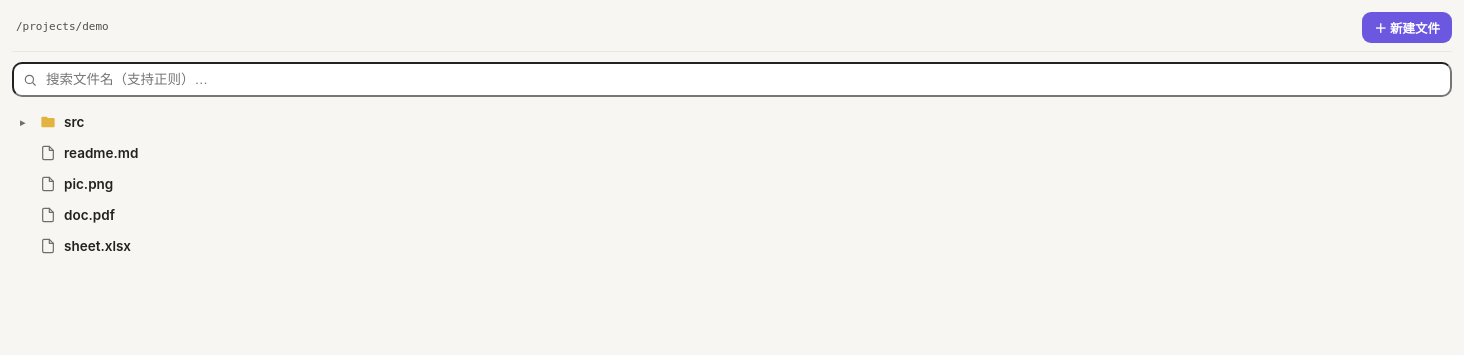
Test: FilesPanel › shows a binary-file notice instead of content
What coordinates should you click on to do the following:
click the button "readme.md"
I would click on:
 (101, 153)
Its box is [12, 138, 1452, 169].
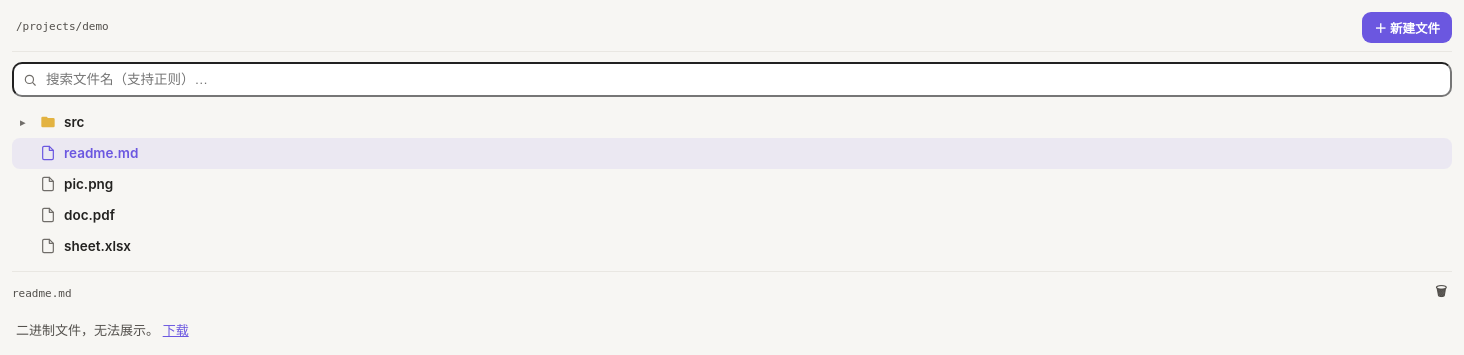
Result: the text "二进制文件，无法展示。 下载" is shown at [16, 322, 189, 338]
